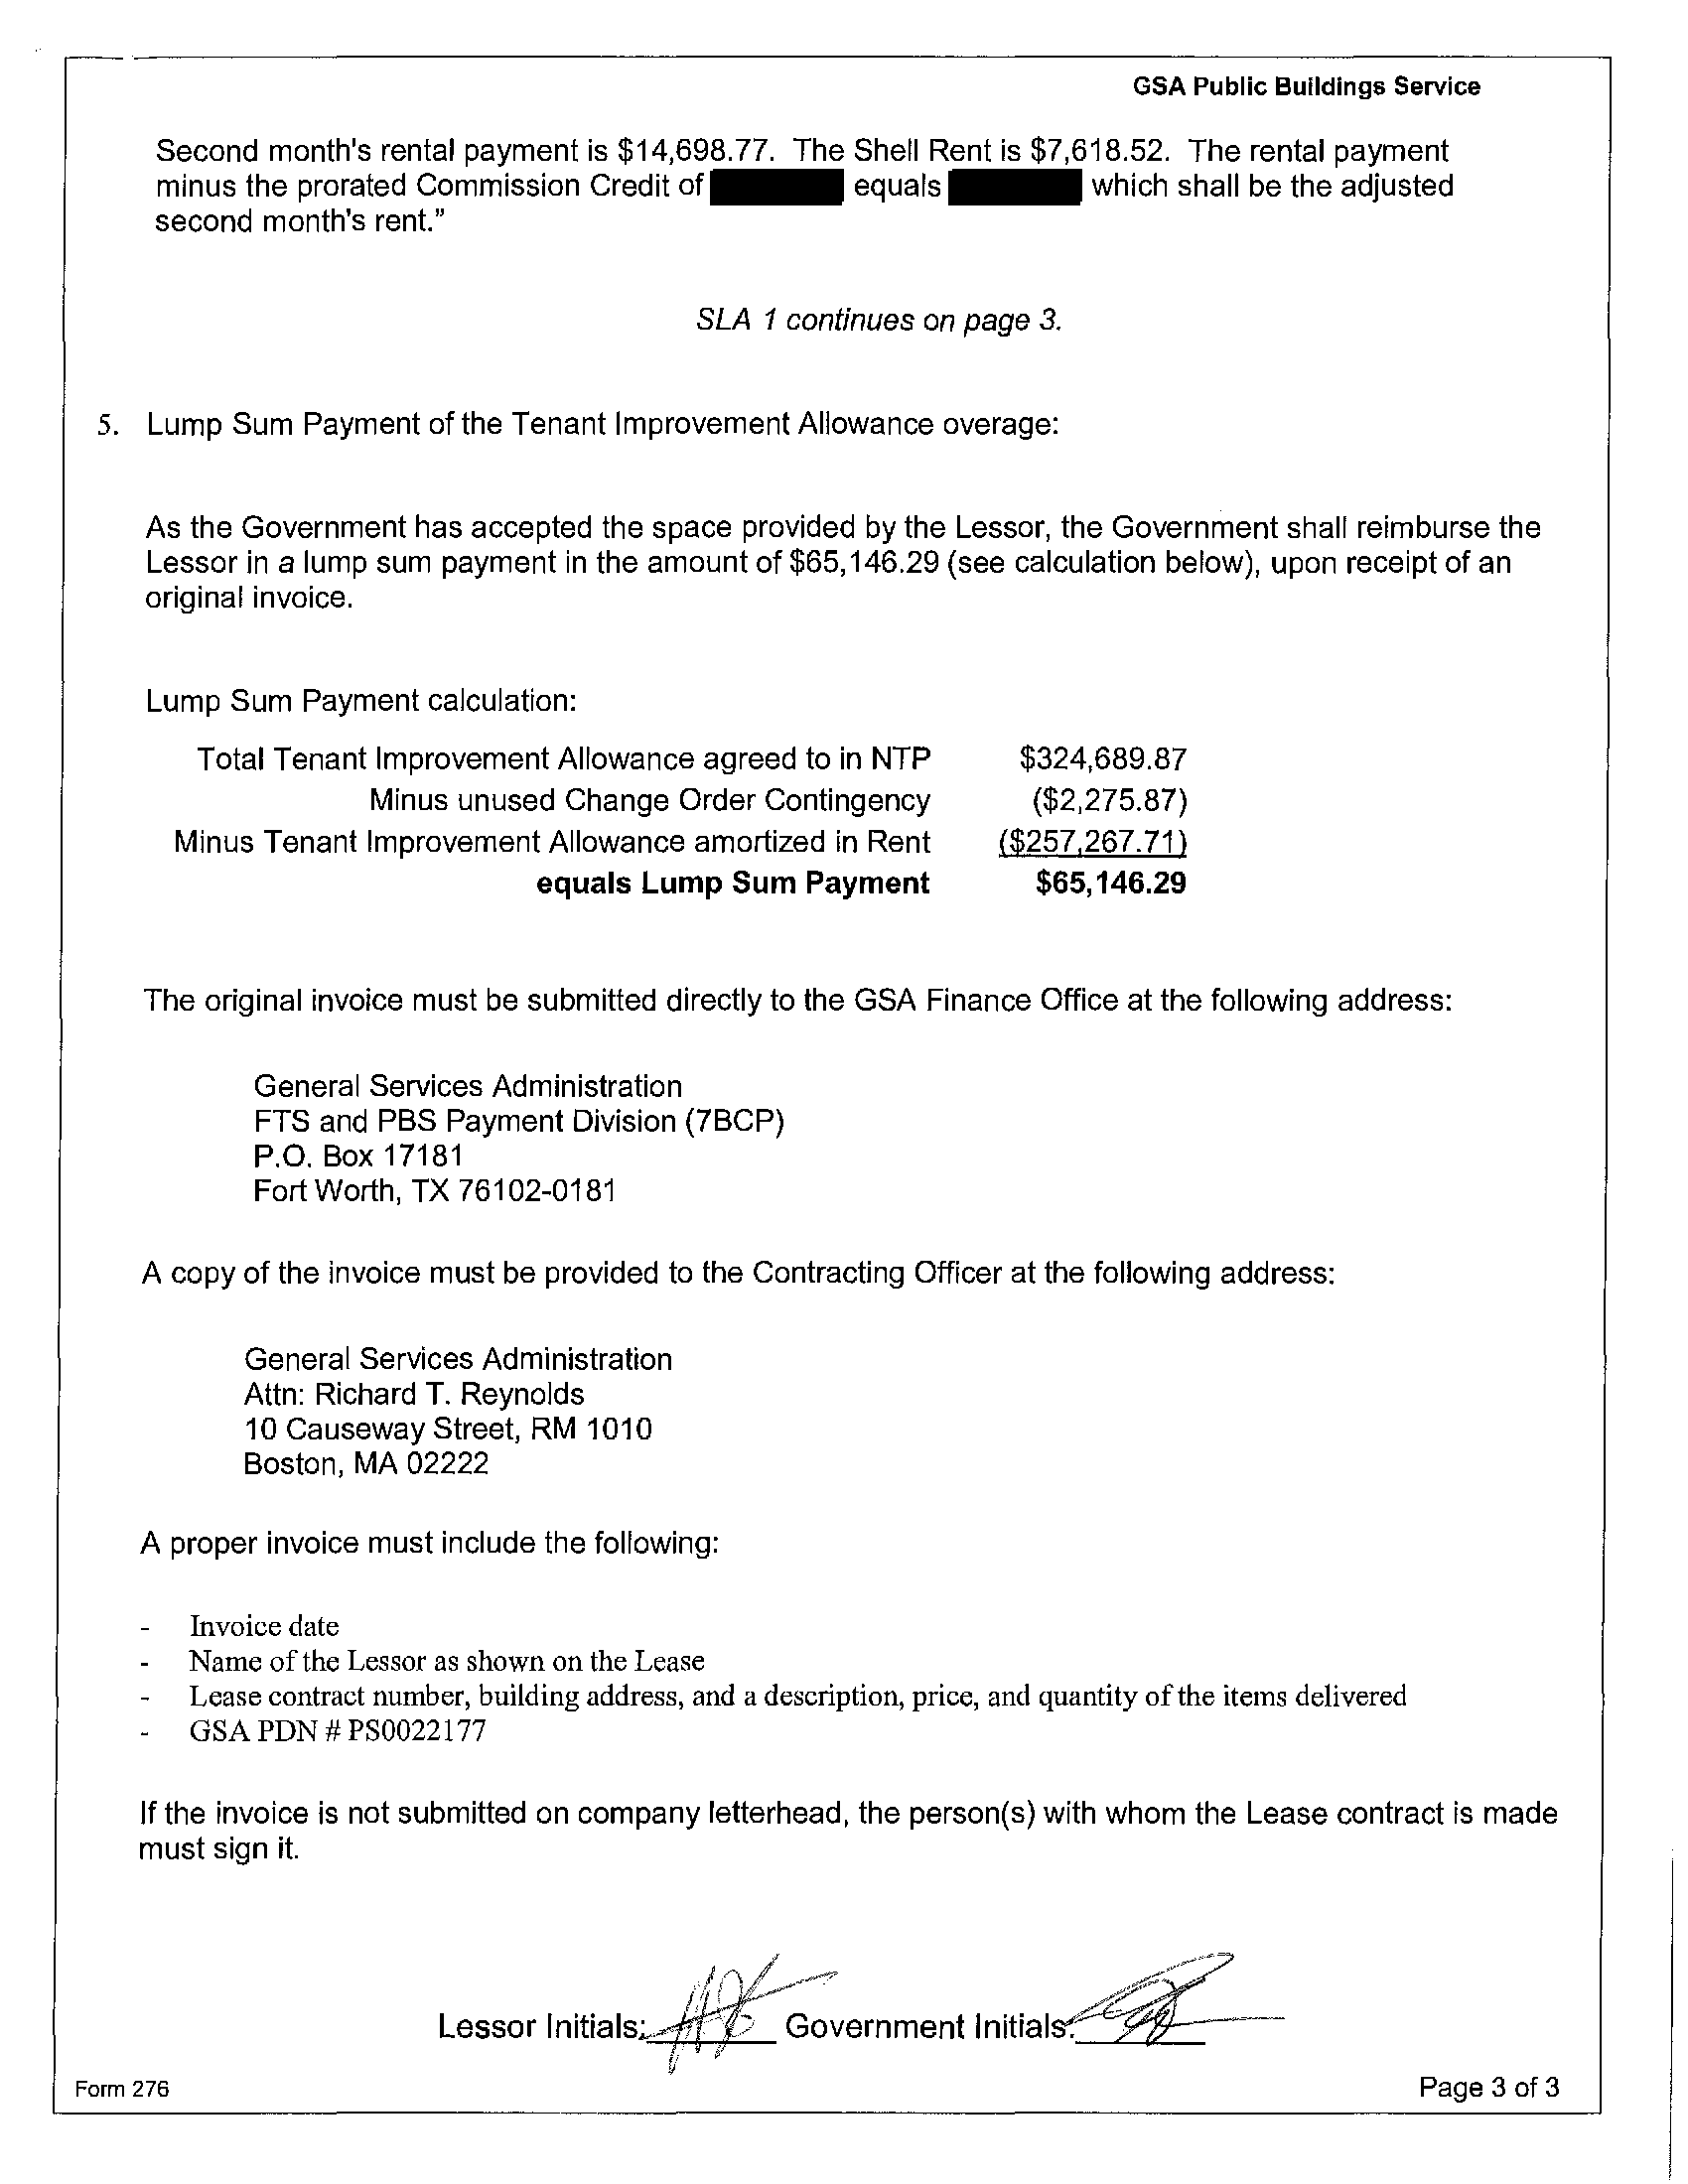handwritten: (1064, 1922, 1291, 2071), (658, 1930, 777, 2067), (656, 1930, 848, 2014)
